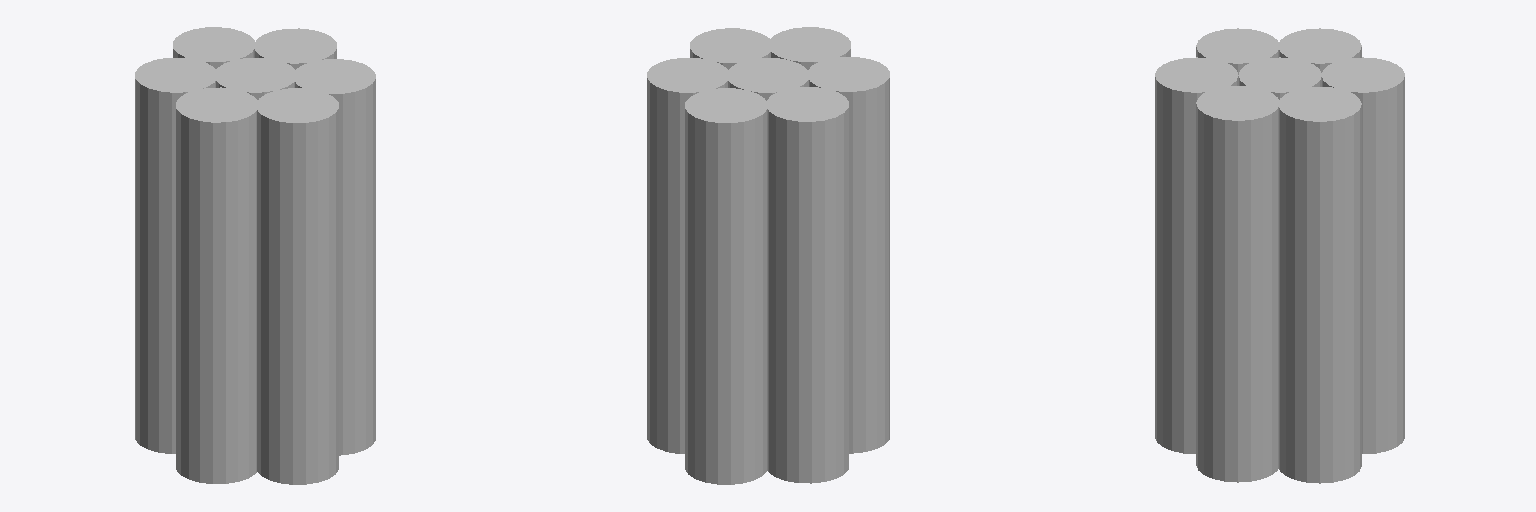
Rendered from dynamite.obj.
3 views of the same model, side by side, from view 1: azimuth 30°, elevation 25°; view 2: azimuth 150°, elevation 25°; view 3: azimuth 270°, elevation 25° (orthographic).
Parts seen in each view (by area): view 1: pCylinder3, pCylinder7, pCylinder6, pCylinder8, pCylinder4, pCylinder5, pCylinder1; view 2: pCylinder4, pCylinder6, pCylinder7, pCylinder5, pCylinder3, pCylinder1, pCylinder8; view 3: pCylinder5, pCylinder8, pCylinder4, pCylinder3, pCylinder7, pCylinder6, pCylinder1.
Boxes of the visible parts, x1,y1,x2,y2 form: pCylinder3: [256, 88, 338, 484]; pCylinder7: [176, 87, 257, 483]; pCylinder6: [135, 58, 217, 453]; pCylinder8: [293, 59, 375, 455]; pCylinder4: [173, 27, 255, 68]; pCylinder5: [254, 28, 336, 69]; pCylinder1: [216, 58, 296, 99]; pCylinder4: [685, 88, 767, 484]; pCylinder6: [766, 87, 848, 483]; pCylinder7: [807, 57, 889, 453]; pCylinder5: [647, 58, 728, 453]; pCylinder3: [768, 27, 850, 69]; pCylinder1: [726, 58, 808, 100]; pCylinder8: [690, 28, 772, 69]; pCylinder5: [1278, 87, 1361, 483]; pCylinder8: [1196, 86, 1278, 482]; pCylinder4: [1321, 57, 1404, 453]; pCylinder3: [1155, 57, 1238, 453]; pCylinder7: [1196, 28, 1279, 74]; pCylinder6: [1278, 28, 1361, 72]; pCylinder1: [1239, 57, 1321, 99].
Size of the model in its own units: 0.2757 by 0.4971 by 0.3119.